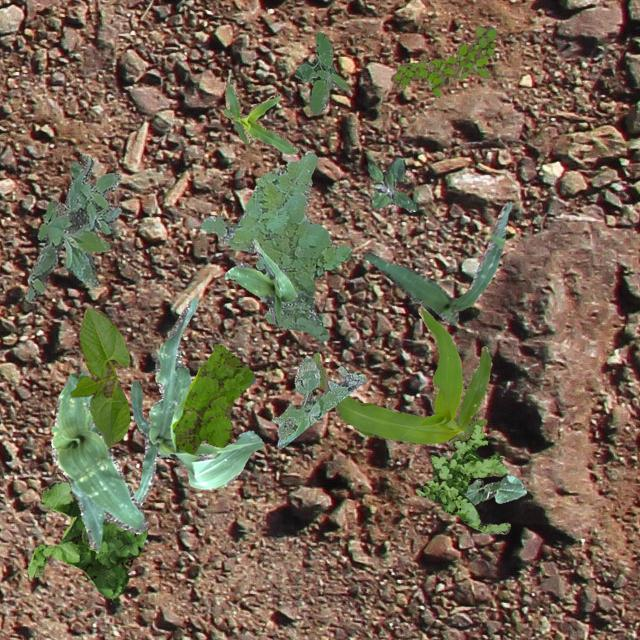crop: (130, 294, 262, 504), (312, 304, 490, 444), (362, 200, 510, 324), (50, 369, 146, 552), (70, 306, 128, 448), (224, 238, 296, 324), (222, 74, 298, 152), (462, 474, 526, 504)
weed: (200, 150, 350, 340), (27, 481, 146, 602), (26, 156, 120, 300), (414, 422, 508, 534), (172, 343, 255, 452), (272, 356, 366, 448), (390, 26, 496, 96), (294, 30, 348, 114), (367, 157, 415, 210)
